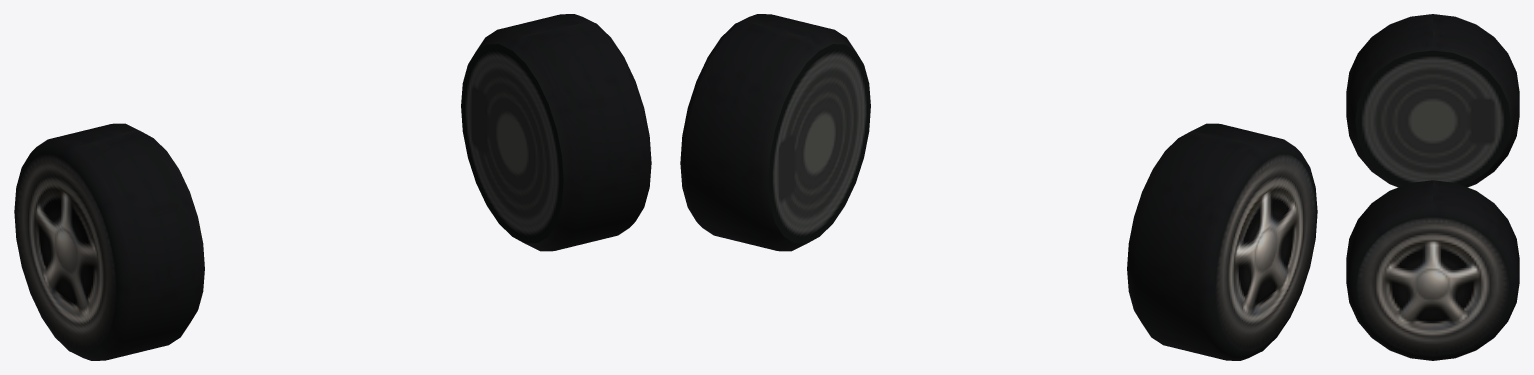
Rendered from gt_liftback_97_wheels_f.obj.
The picture shows the model from 3 angles, left to right: view 1: azimuth 30°, elevation 25°; view 2: azimuth 150°, elevation 25°; view 3: azimuth 270°, elevation 25°; orthographic projection. The views are drawn at different scales.
Parts seen in each view (by area): view 1: gt_liftback_97_wheels_f; view 2: gt_liftback_97_wheels_f; view 3: gt_liftback_97_wheels_f.
Part boxes in pixels (x1,y1,x2,y2): gt_liftback_97_wheels_f: (14, 14, 651, 360); gt_liftback_97_wheels_f: (680, 14, 1317, 360); gt_liftback_97_wheels_f: (1346, 14, 1519, 360).
Bounding box in the file's own units: 1.8 × 0.6693 × 0.6693.
